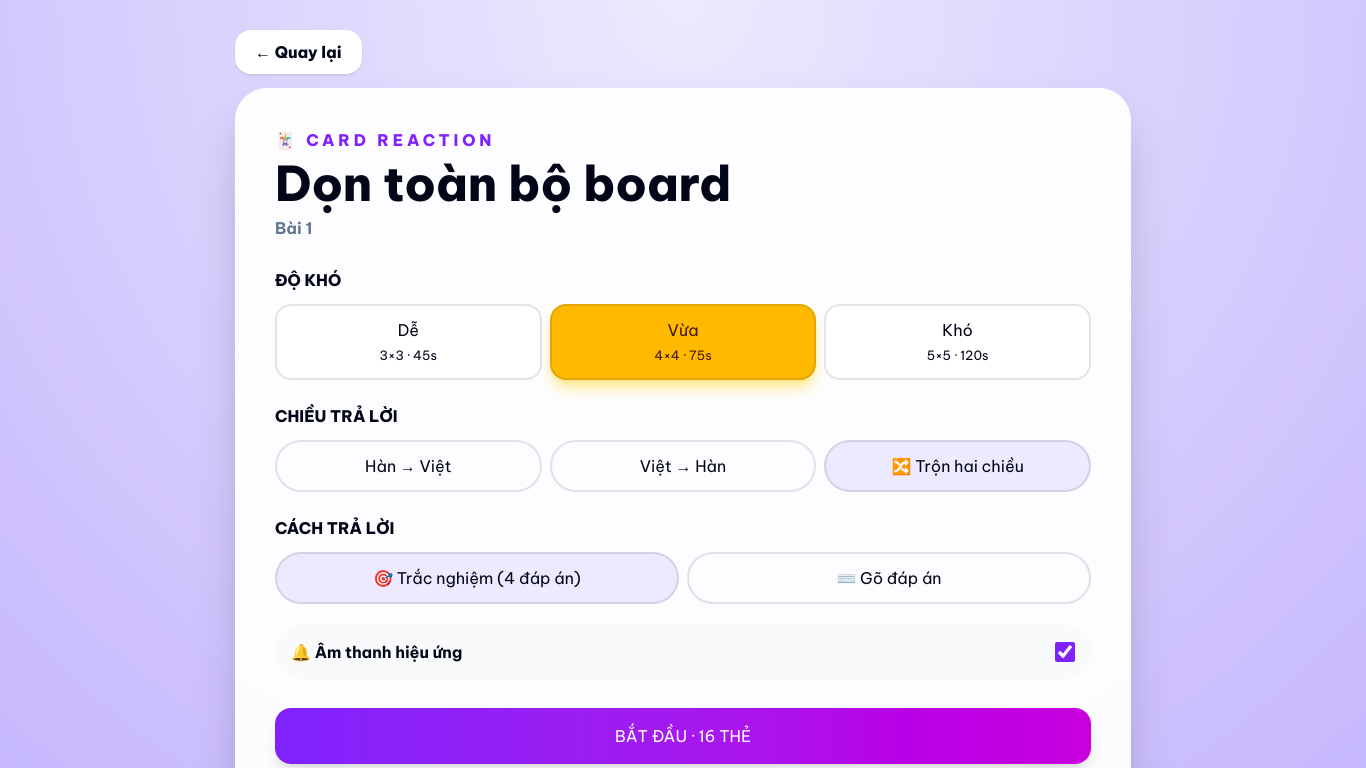
Test: CardReactionExperience › bắt đầu trực tiếp từ màn thiết lập
Click the button "BẮT ĐẦU · 16 THẺ" at [683, 736], box [275,708,1091,764]
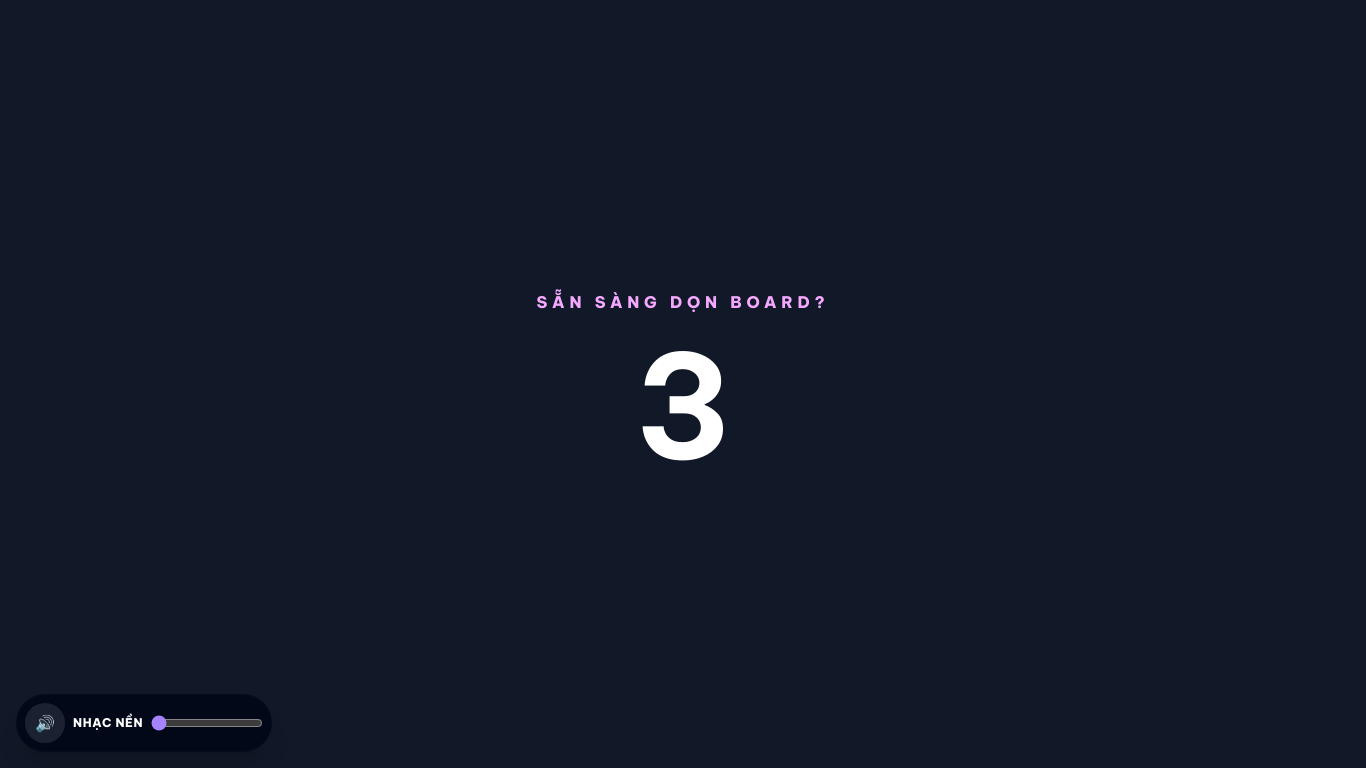
expect the text "3" is shown: met, box [634,315,732,497]
expect the text "Sẵn sàng dọn board?" is shown: met, box [536,290,830,314]
